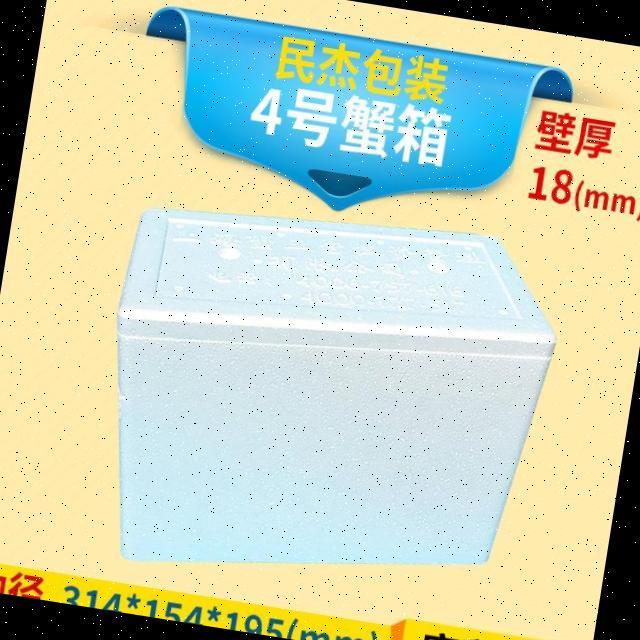styrofoam: (77, 177, 572, 621)
